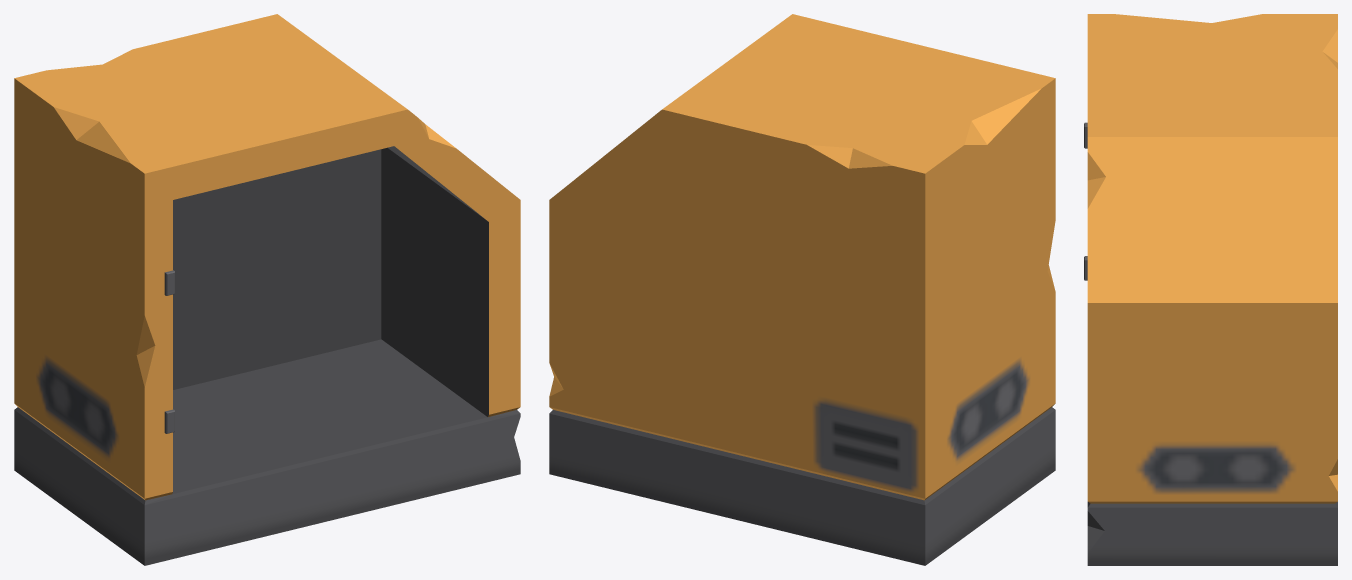
File: SM_Prop_Electrical_Box_01Shape.fbx
The picture shows the model from 3 angles, left to right: view 1: azimuth 30°, elevation 25°; view 2: azimuth 150°, elevation 25°; view 3: azimuth 270°, elevation 25°; orthographic projection. The views are drawn at different scales.
Parts seen in each view (by area): view 1: SM_Prop_Electrical_Box_01; view 2: SM_Prop_Electrical_Box_01; view 3: SM_Prop_Electrical_Box_01.
Part boxes in pixels (left/top/right/bottom): SM_Prop_Electrical_Box_01: left=14, top=14, right=520, bottom=565; SM_Prop_Electrical_Box_01: left=549, top=14, right=1055, bottom=565; SM_Prop_Electrical_Box_01: left=1084, top=14, right=1337, bottom=565.
Bounding box in the file's own units: 125 × 125 × 76.29.
